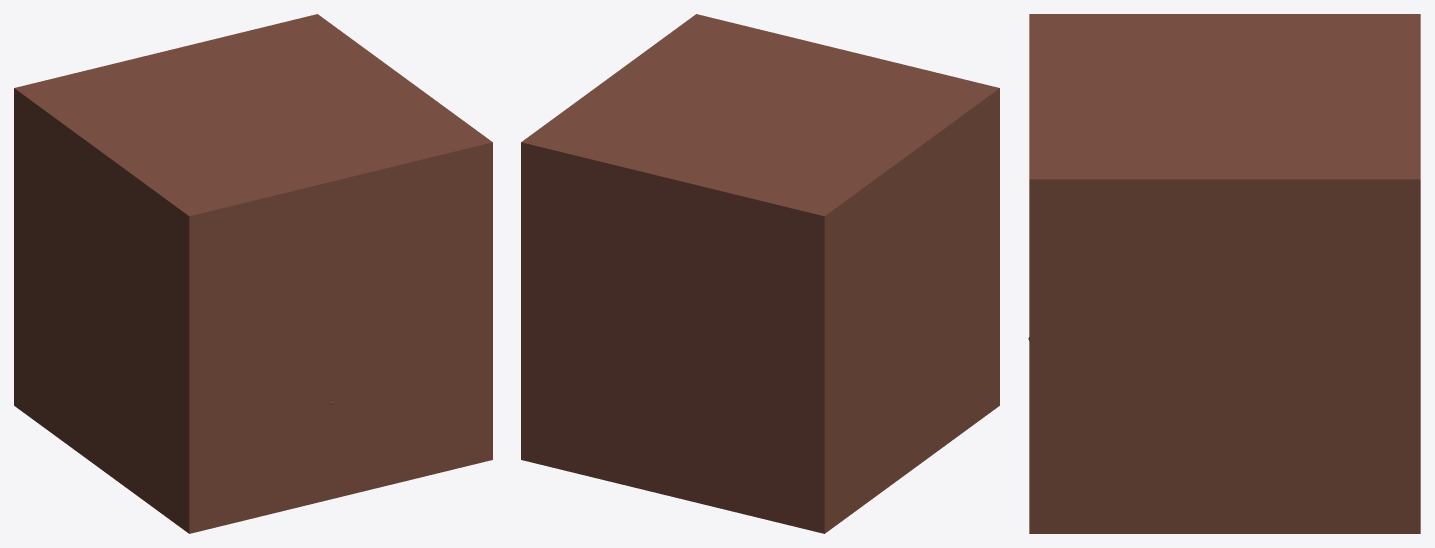
Rendered from Cave_1211.fbx.
3 renders of one model, left to right at view 1: azimuth 30°, elevation 25°; view 2: azimuth 150°, elevation 25°; view 3: azimuth 270°, elevation 25°, orthographic. The views are drawn at different scales.
Parts seen in each view (by area): view 1: Cave; view 2: Cave; view 3: Cave.
Part boxes in pixels (x1,y1,x2,y2): Cave: (14,14,492,533); Cave: (521,14,999,533); Cave: (1028,14,1420,533).
Size of the model in its own units: 23600 by 23600 by 23647.
